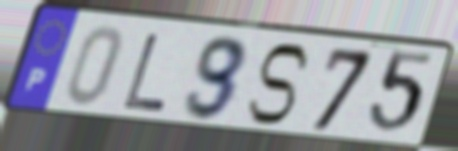0: (61, 24, 126, 111)
5: (364, 49, 439, 143)
7: (312, 44, 376, 134)
9: (181, 34, 253, 125)
L: (119, 30, 171, 115)
S: (244, 41, 313, 128)
